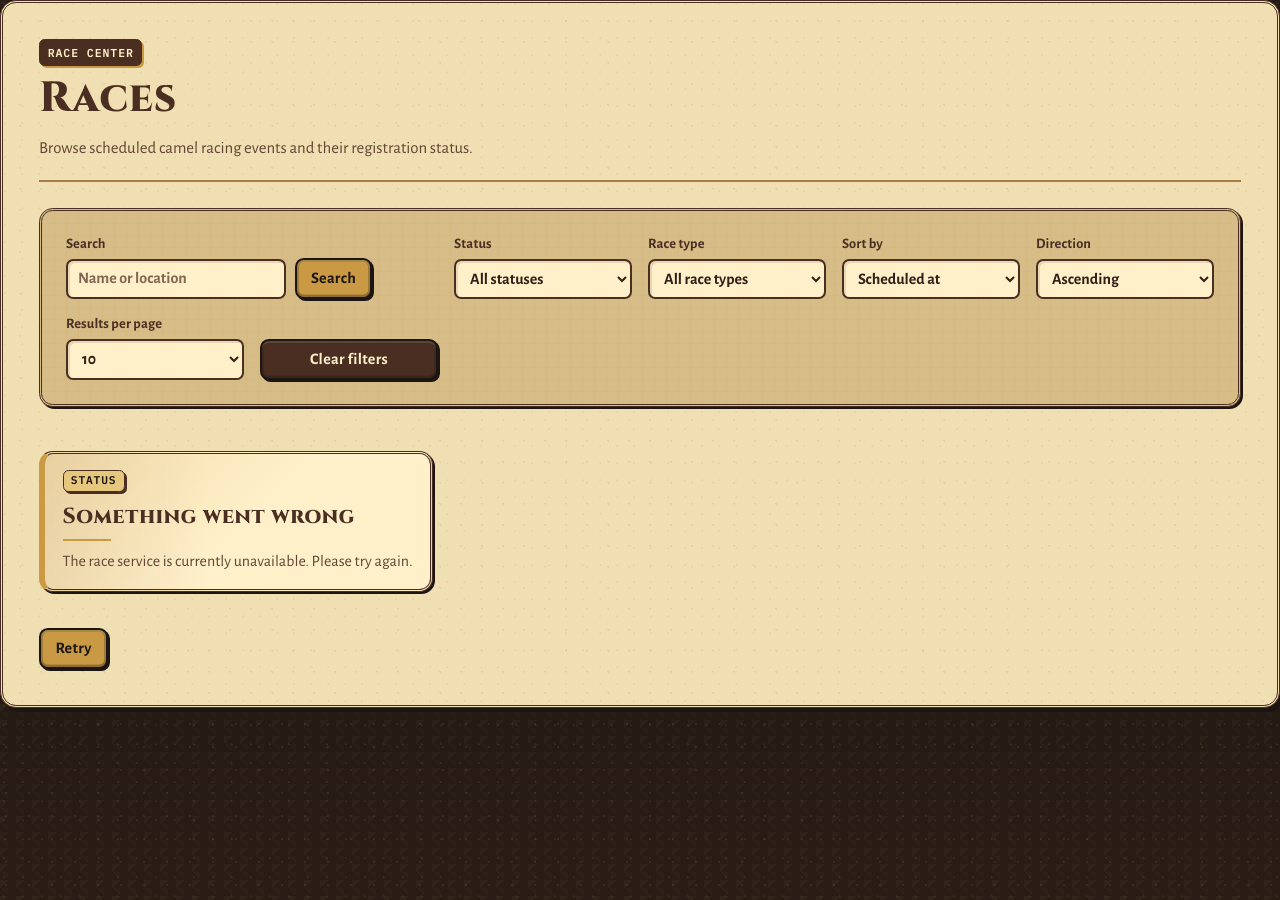
Test: RaceListPage › renders a safe error message and retries the request
Expected: the text "The race service is currently unavailable. Please try again." is shown, [63,549,413,573]
Click the button "Retry". click: (74, 649)
box: [39,628,108,669]
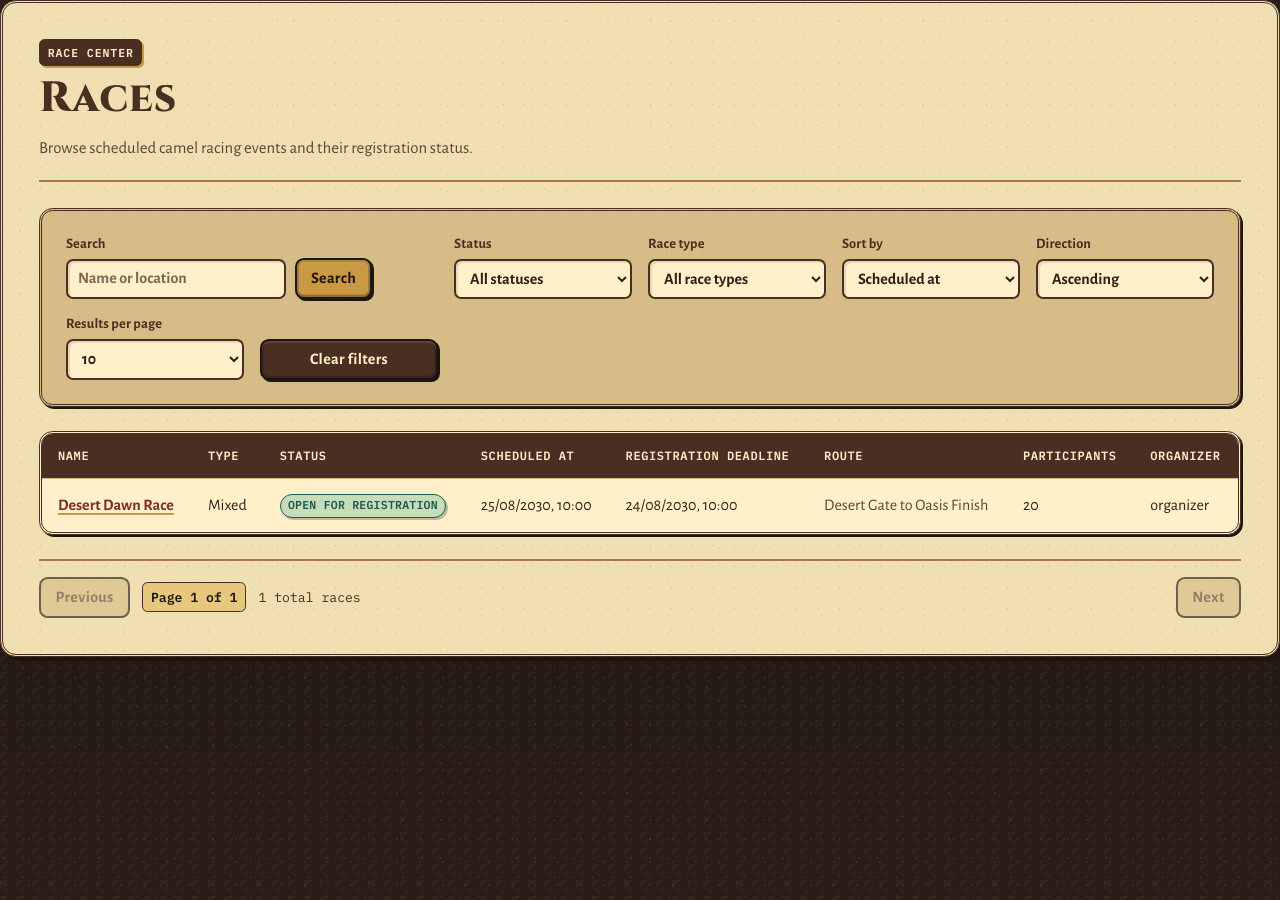
Result: the link "Desert Dawn Race" is shown at [58,497,174,513]
